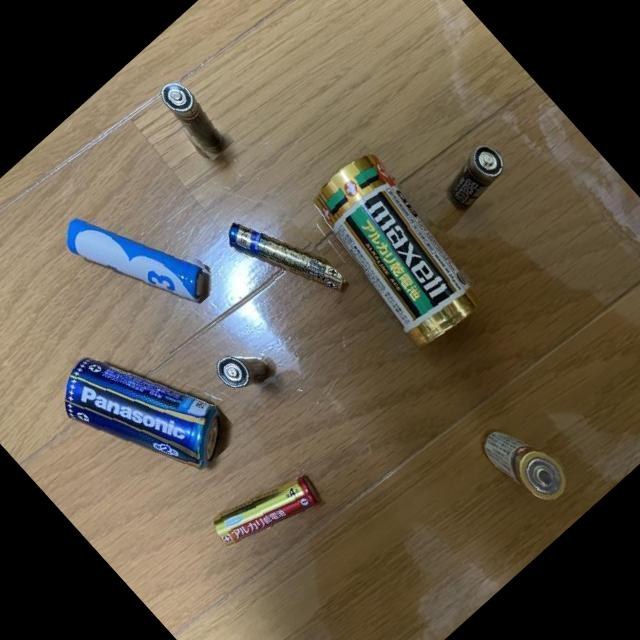Hazard: (289, 139, 509, 368), (40, 309, 242, 515), (49, 168, 224, 347), (218, 192, 355, 334), (205, 450, 332, 573), (470, 402, 580, 514), (146, 73, 235, 165), (432, 134, 518, 218), (206, 334, 274, 403)
